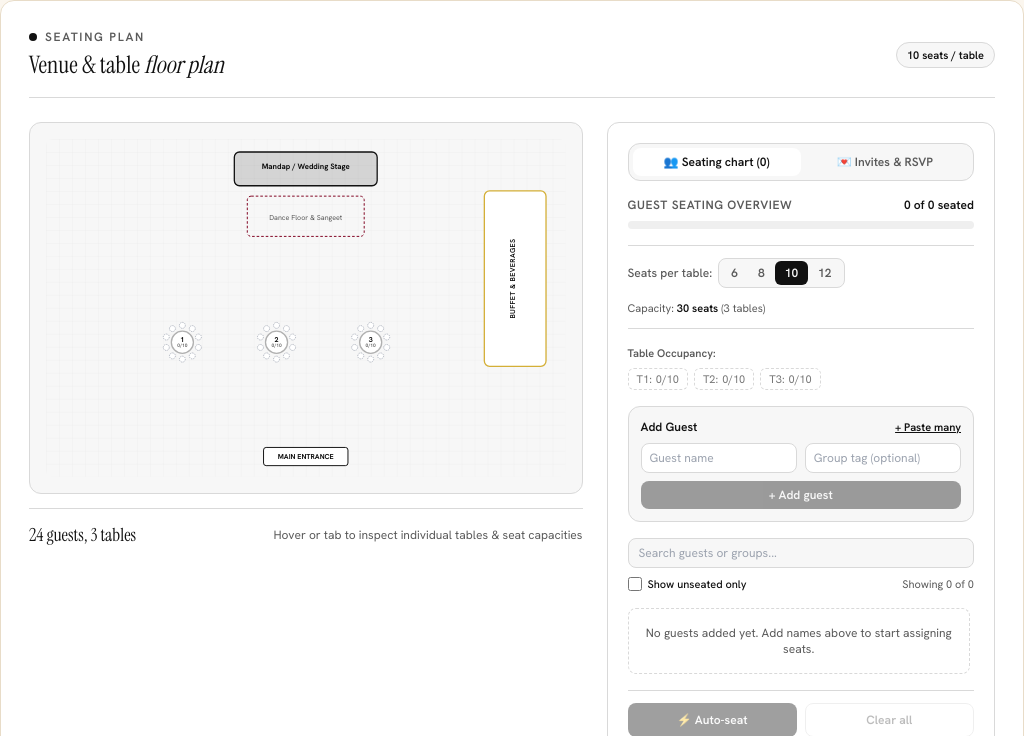
Scenario: Seating Plan Component & Accessibility (Stages 2 & 3) › auto-seats guests across tables when auto-seat button is clicked
Note: Add 3 guests
Click the button "+ Paste many": (928, 427) [895,419,961,435]
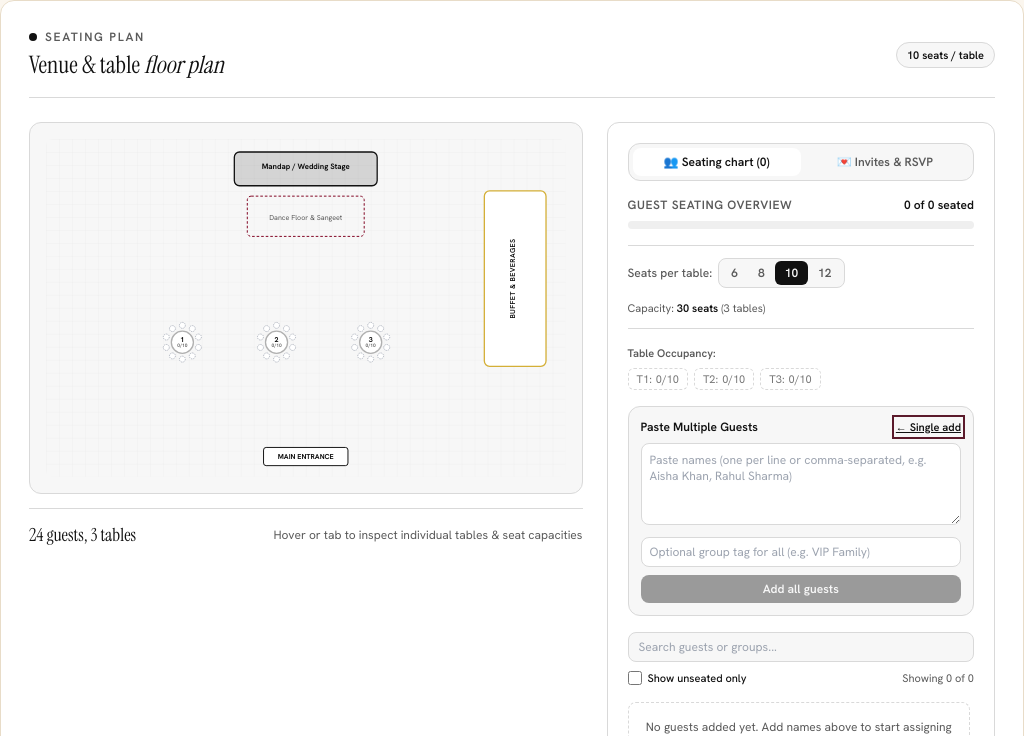
In the text box named "Paste multiple guest names": (801, 484) [640,443,961,525], type "Guest A, Guest B, Guest C"
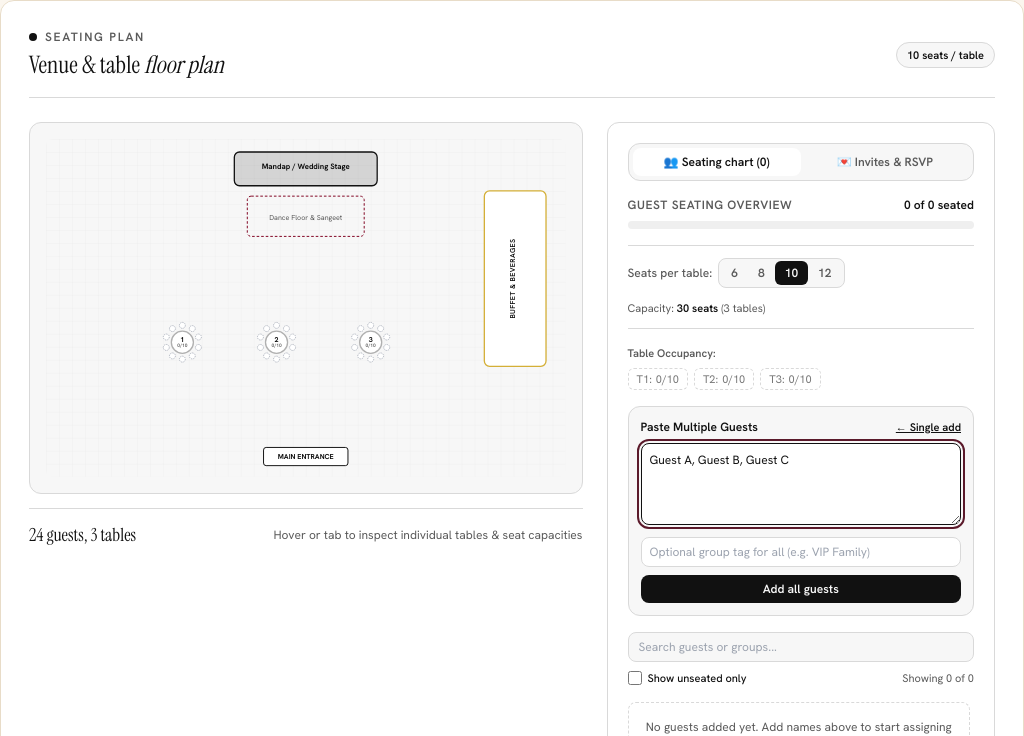
Click the button "Add all guests": (801, 589) [640,575,961,603]
(page scrolled)
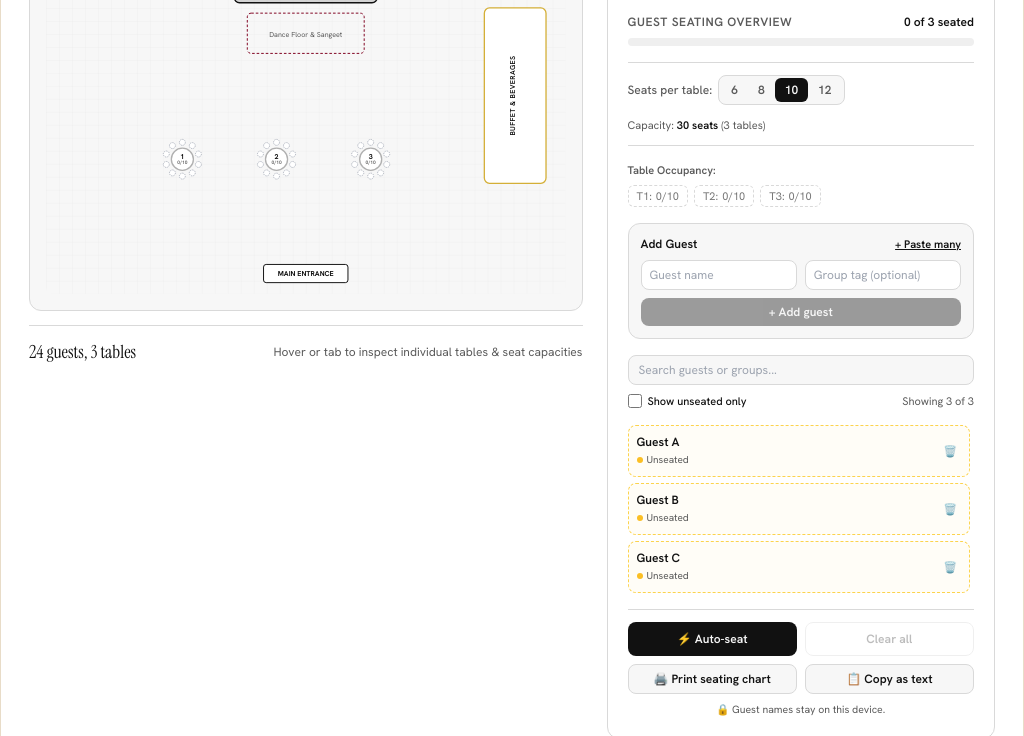
Expected: the text "0 of 3 seated" is shown, [904,14,974,30]
Note: Click auto-seat
Click the button "⚡ Auto-seat": (712, 639) [628,622,797,656]
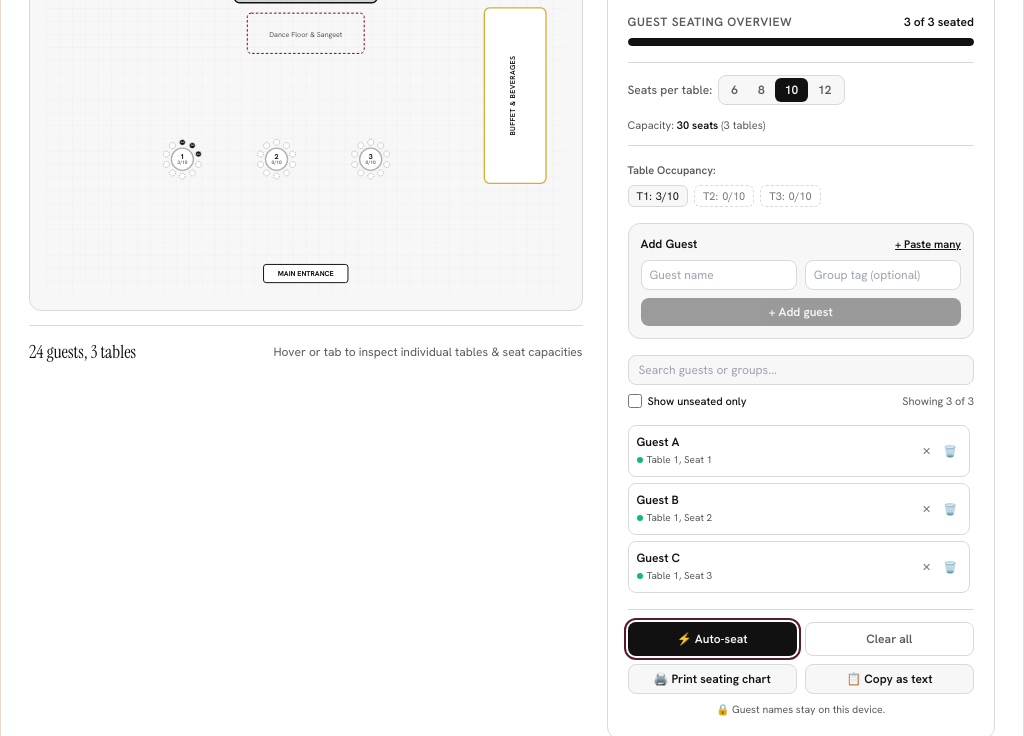
Expected: the text "3 of 3 seated" is shown, [904,14,974,30]
